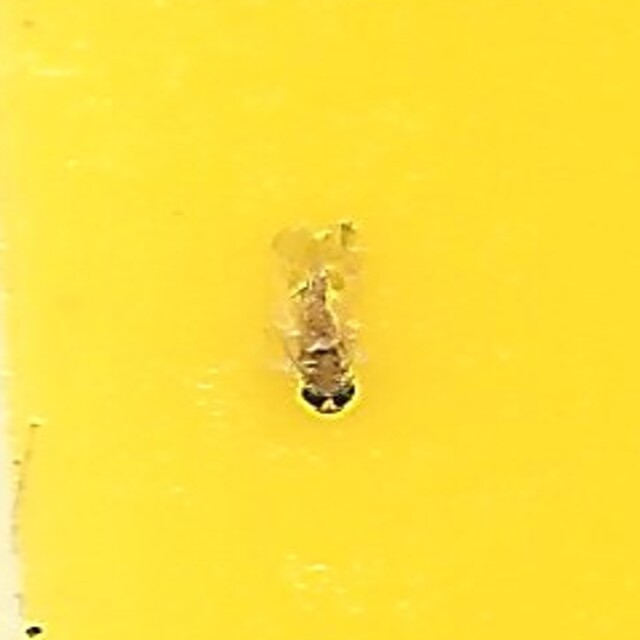Hemiptera: (267, 218, 373, 422)
